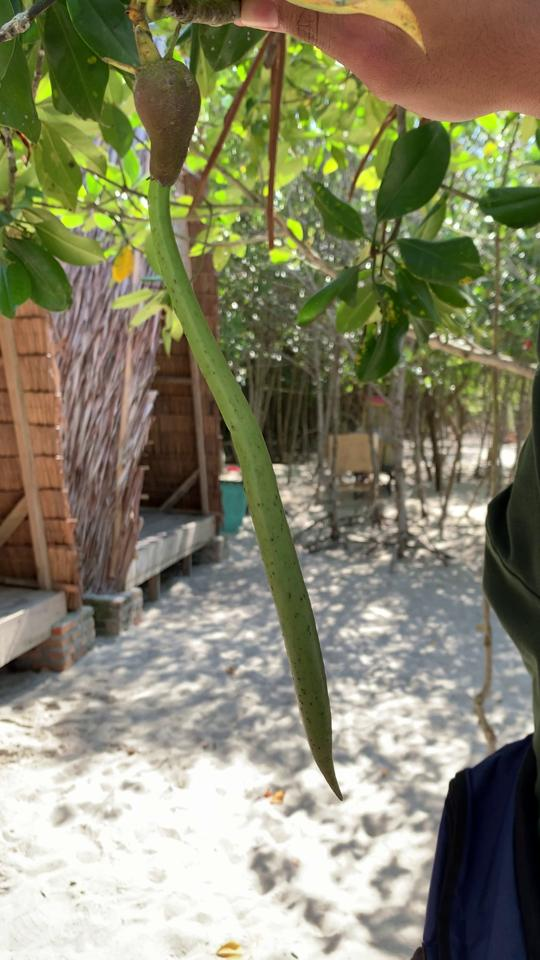mentah: (105, 38, 364, 818)
